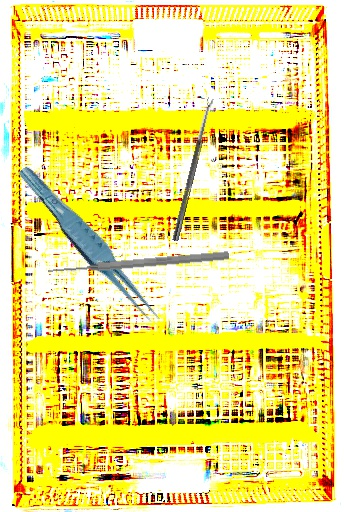Pusher: (47, 249, 230, 277)
Surgical Spoon: (172, 97, 215, 242)
Tissue Forceps: (16, 155, 164, 337)
